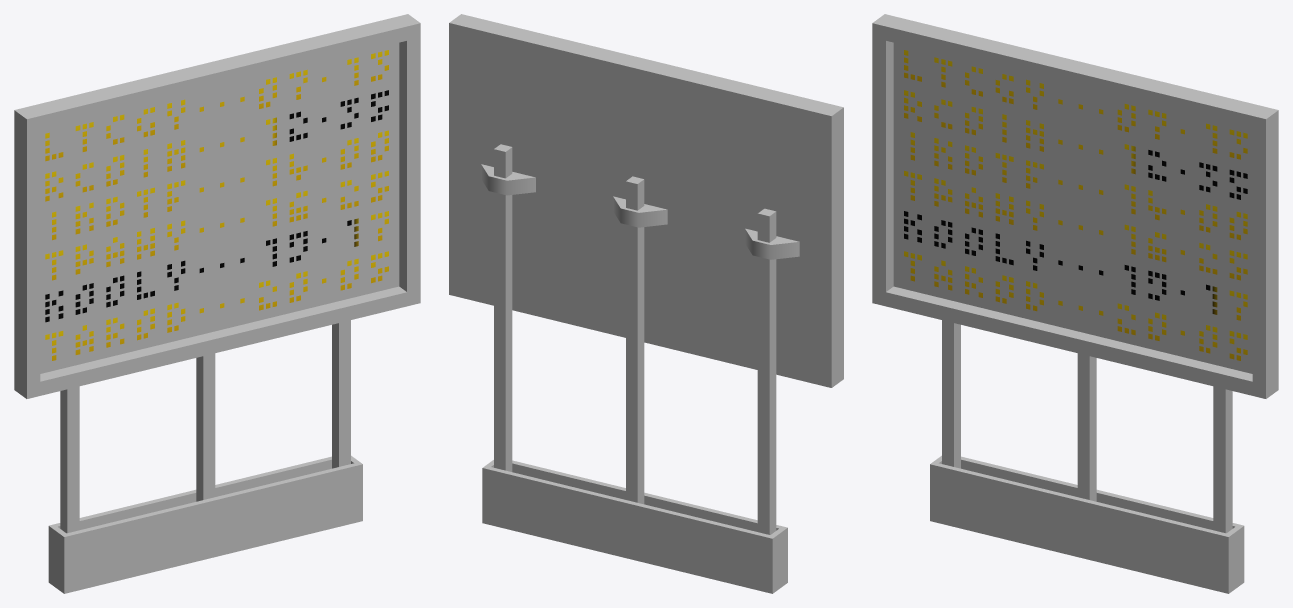
File: Train_Schedule_1A.fbx
3 views of the same model, side by side, from view 1: azimuth 30°, elevation 25°; view 2: azimuth 150°, elevation 25°; view 3: azimuth 330°, elevation 25° (orthographic). The views are drawn at different scales.
Visible parts, largest first — view 1: Train_Schedule_1A, LED_Text_1A; view 2: Train_Schedule_1A; view 3: Train_Schedule_1A, LED_Text_1A.
Part boxes in pixels (x1,y1,x2,y2): Train_Schedule_1A: (14,14,420,593); LED_Text_1A: (45,50,388,360); Train_Schedule_1A: (449,14,843,593); Train_Schedule_1A: (872,14,1278,593); LED_Text_1A: (904,50,1247,360).
Size of the model in its own units: 4.35 by 5.21 by 0.4938.
